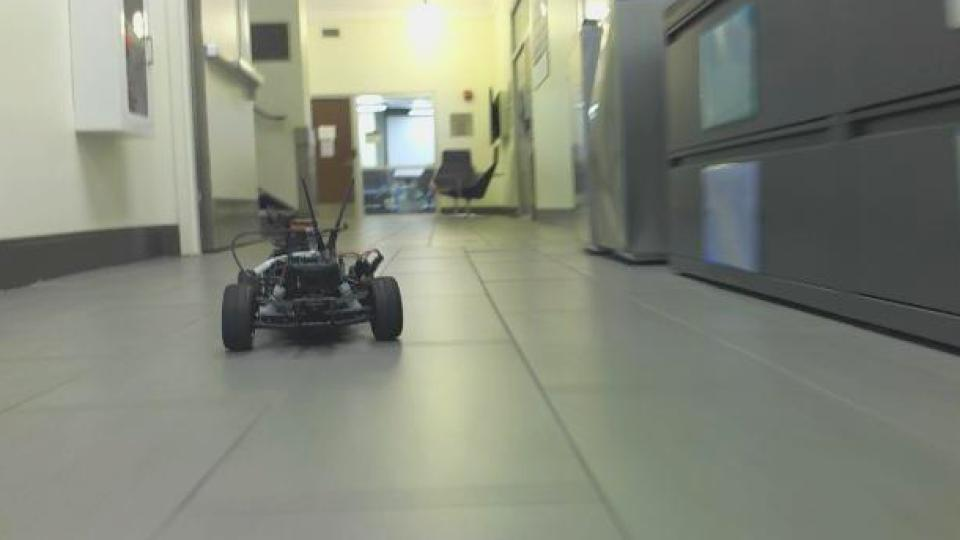car: (218, 172, 408, 354)
